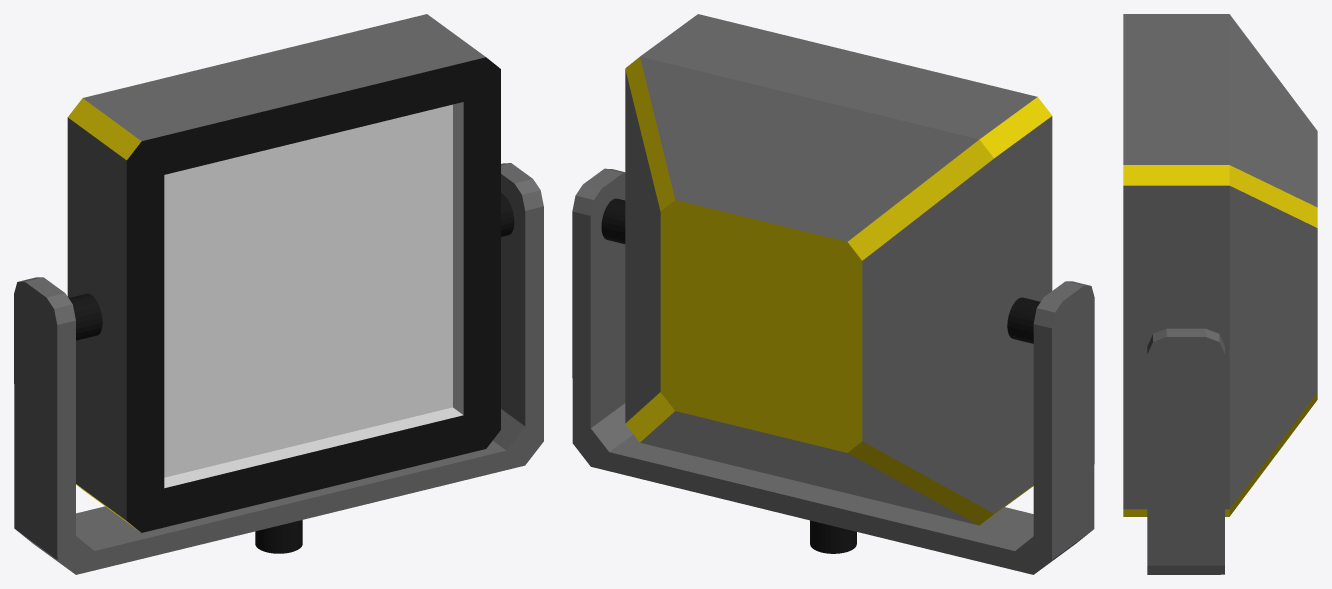
Rendered from 2 Axis Light.fbx.
The picture shows the model from 3 angles, left to right: view 1: azimuth 30°, elevation 25°; view 2: azimuth 150°, elevation 25°; view 3: azimuth 270°, elevation 25°; orthographic projection. The views are drawn at different scales.
Parts seen in each view (by area): view 1: Light Casing, Fastener; view 2: Light Casing, Fastener; view 3: Light Casing, Fastener.
Boxes of the visible parts, bbox=[...] form: Light Casing: bbox=[67, 14, 514, 532]; Fastener: bbox=[14, 163, 543, 574]; Light Casing: bbox=[601, 14, 1052, 525]; Fastener: bbox=[572, 168, 1094, 574]; Light Casing: bbox=[1123, 14, 1317, 516]; Fastener: bbox=[1147, 328, 1224, 574].
Size of the model in its own units: 13 by 12 by 5.
